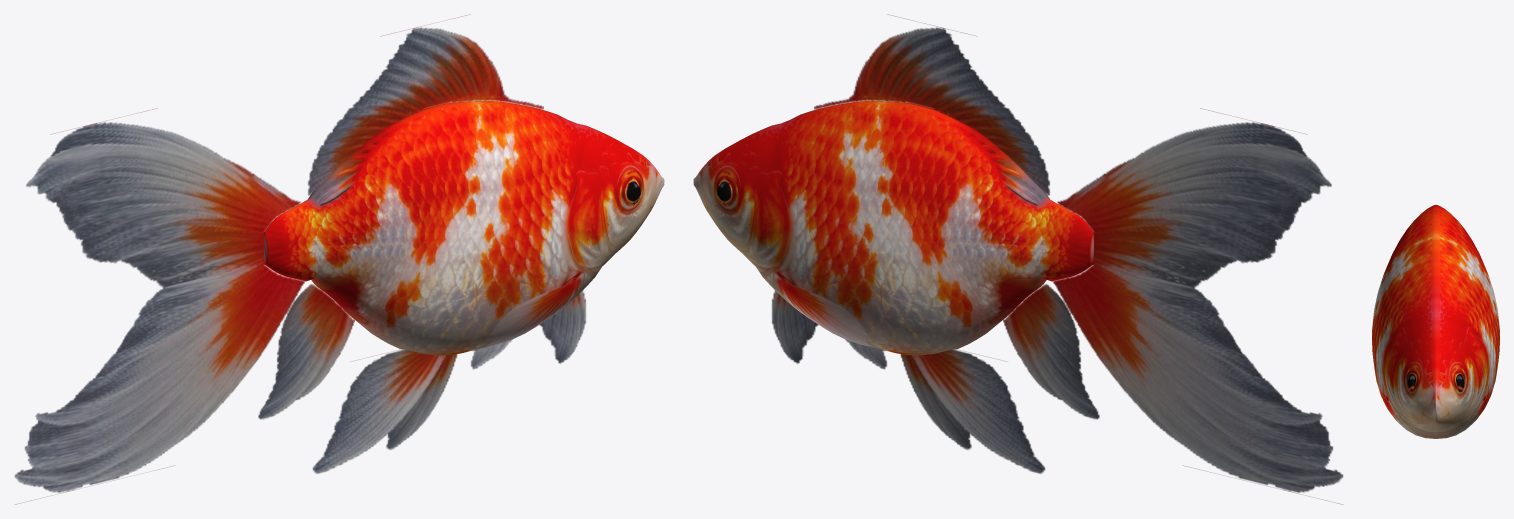
The model's file is species-ryukin.glb.
3 views of the same model, side by side, from view 1: azimuth 30°, elevation 25°; view 2: azimuth 150°, elevation 25°; view 3: azimuth 270°, elevation 25° (orthographic). The views are drawn at different scales.
Visible parts, largest first — view 1: ryukin; view 2: ryukin; view 3: ryukin.
Part boxes in pixels (left/top/right/bottom): ryukin: left=14, top=14, right=664, bottom=504; ryukin: left=693, top=14, right=1343, bottom=504; ryukin: left=1372, top=205, right=1499, bottom=438.
Size of the model in its own units: 0.1197 by 0.0744 by 0.0256.
1 material, 1 textured.
